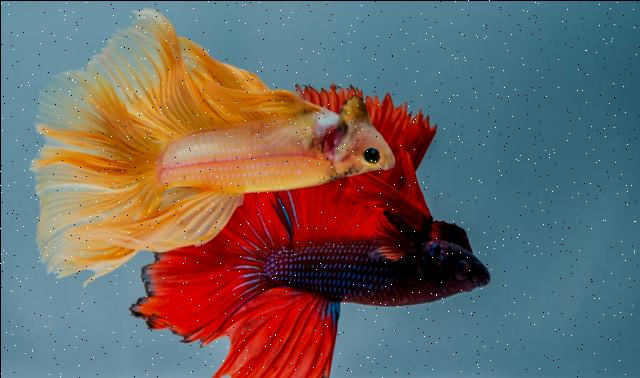Mulut: (463, 250, 509, 304), (371, 138, 403, 182)
Sirip Dada: (256, 89, 326, 169), (360, 203, 426, 275)
Sirip Perut: (190, 64, 326, 123)
